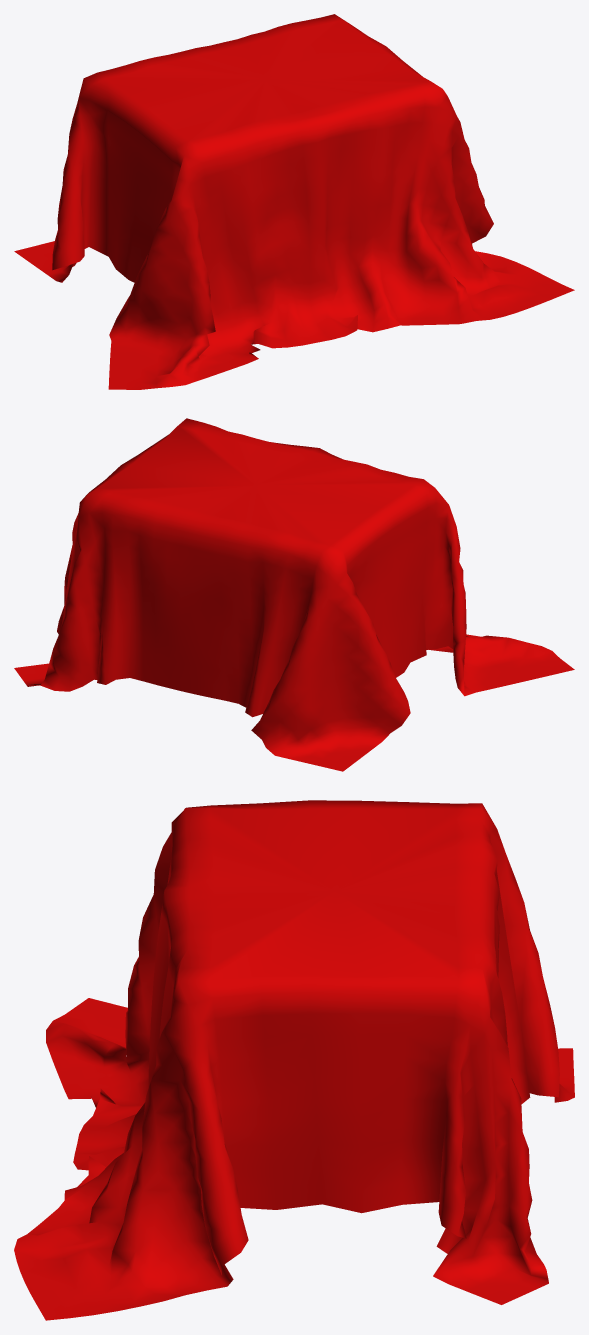
Rendered from Attic_CrateCloth_01_LP.glb.
The picture shows the model from 3 angles, top to bottom: view 1: azimuth 30°, elevation 25°; view 2: azimuth 150°, elevation 25°; view 3: azimuth 270°, elevation 25°; orthographic projection. The views are drawn at different scales.
Parts seen in each view (by area): view 1: Attic_CrateCloth_01_LP; view 2: Attic_CrateCloth_01_LP; view 3: Attic_CrateCloth_01_LP.
Part boxes in pixels (x1,y1,x2,y2): Attic_CrateCloth_01_LP: (14,14,574,389); Attic_CrateCloth_01_LP: (14,418,574,771); Attic_CrateCloth_01_LP: (14,800,574,1320).
Bounding box in the file's own units: 2.02 × 0.828 × 1.48.
